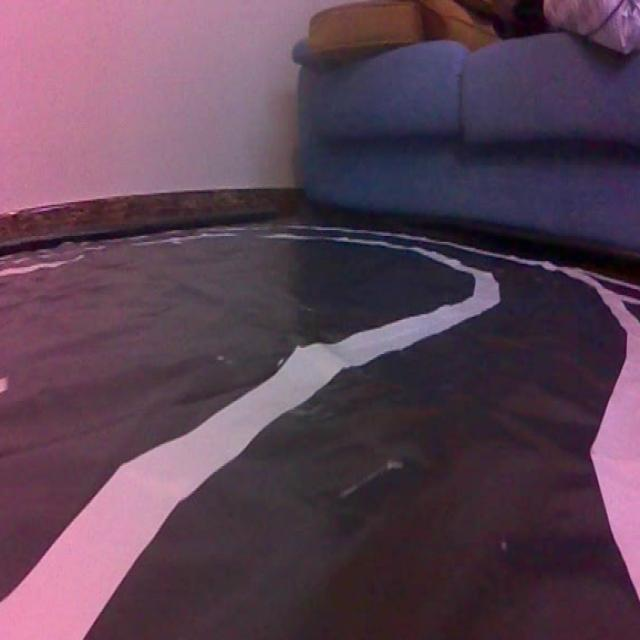LineaCarril: (0, 248, 500, 640), (563, 268, 640, 606)
